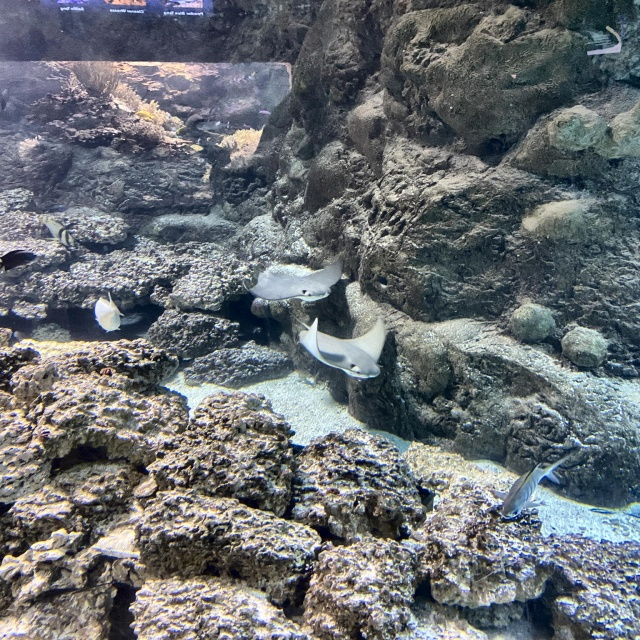fish: (501, 454, 569, 519), (95, 293, 123, 332), (0, 251, 38, 271)
stingray: (298, 317, 385, 378), (248, 266, 345, 302)
